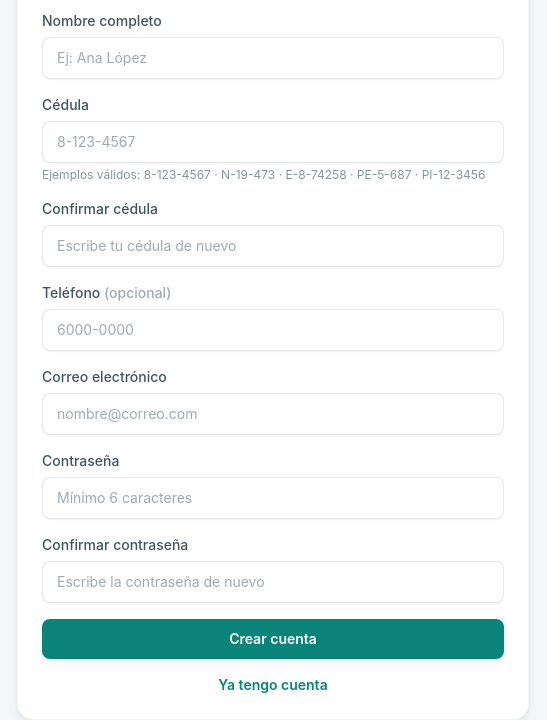
Test: <Register /> › CA-01-01: rechaza el envío con un campo obligatorio vacío y nombra el campo
The width and height of the screenshot is (547, 720).
(page scrolled)
Click the button "Crear cuenta" at x=273, y=639, box [42, 619, 504, 659]
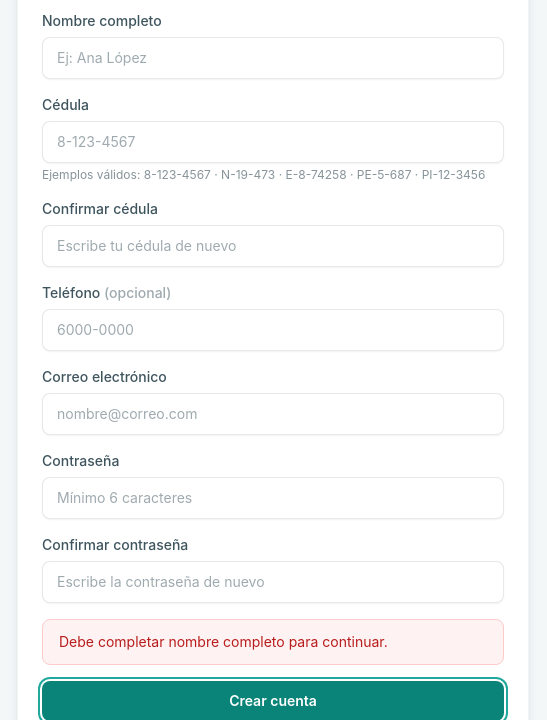
Check: the message reads "Debe completar nombre completo para continuar.", box [59, 633, 388, 650]
